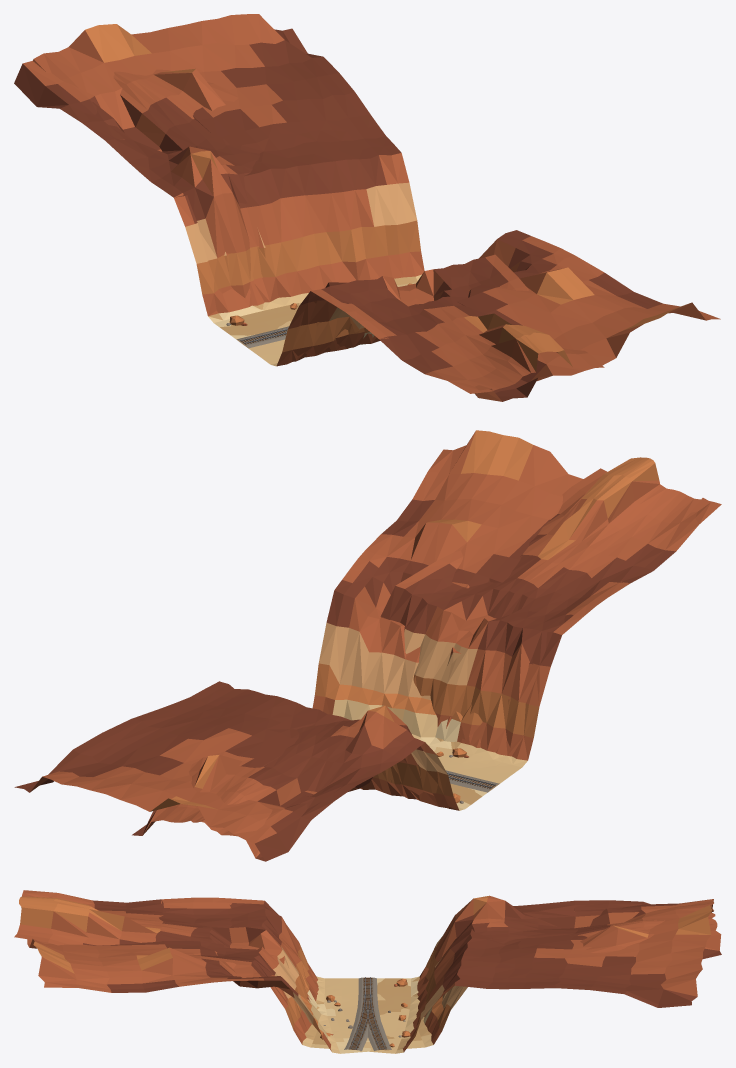
File: Joined Chunck_CanyonDeep_CurveRight_A.fbx
3 views of the same model, one above another, from view 1: azimuth 30°, elevation 25°; view 2: azimuth 150°, elevation 25°; view 3: azimuth 270°, elevation 25° (orthographic). The views are drawn at different scales.
Parts seen in each view (by area): view 1: FG_Chunk_CanyonDeep_CurveR_A_SceneryNear, FG_Chunk_CanyonDeep_CurveL_A_Ground; view 2: FG_Chunk_CanyonDeep_CurveR_A_SceneryNear, FG_Chunk_CanyonDeep_CurveL_A_Ground; view 3: FG_Chunk_CanyonDeep_CurveR_A_SceneryNear, FG_Chunk_CanyonDeep_CurveL_A_Ground.
Part boxes in pixels (<box>): FG_Chunk_CanyonDeep_CurveR_A_SceneryNear: <box>33,14,604,393</box>; FG_Chunk_CanyonDeep_CurveL_A_Ground: <box>14,61,720,401</box>; FG_Chunk_CanyonDeep_CurveR_A_SceneryNear: <box>14,457,719,861</box>; FG_Chunk_CanyonDeep_CurveL_A_Ground: <box>132,430,721,861</box>; FG_Chunk_CanyonDeep_CurveR_A_SceneryNear: <box>14,890,713,1053</box>; FG_Chunk_CanyonDeep_CurveL_A_Ground: <box>22,890,721,1053</box>.
Bounding box in the file's own units: 6706 × 3488 × 20566.
